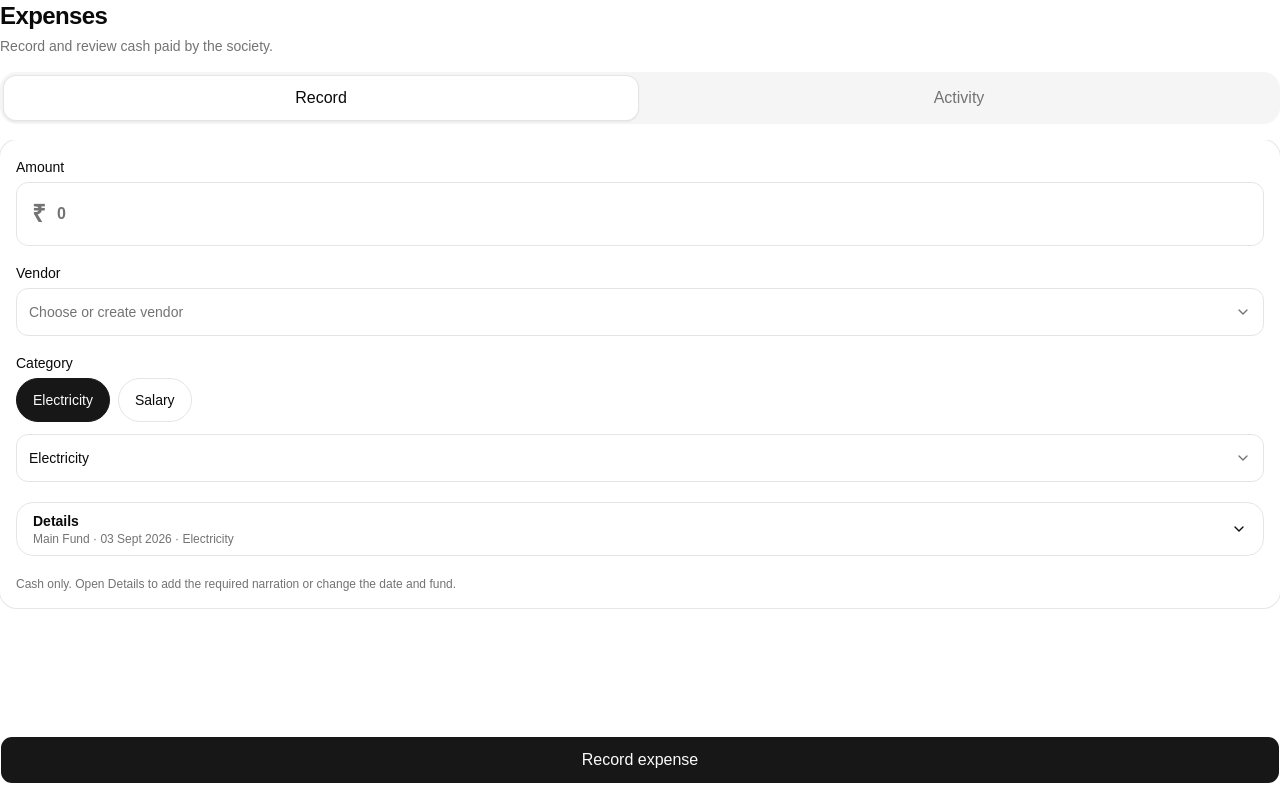
Test: ExpensesPage Slice 3 › filters Activity from the native filter sheet
Click the tab "activity": click(959, 98) [642,76,1276,120]
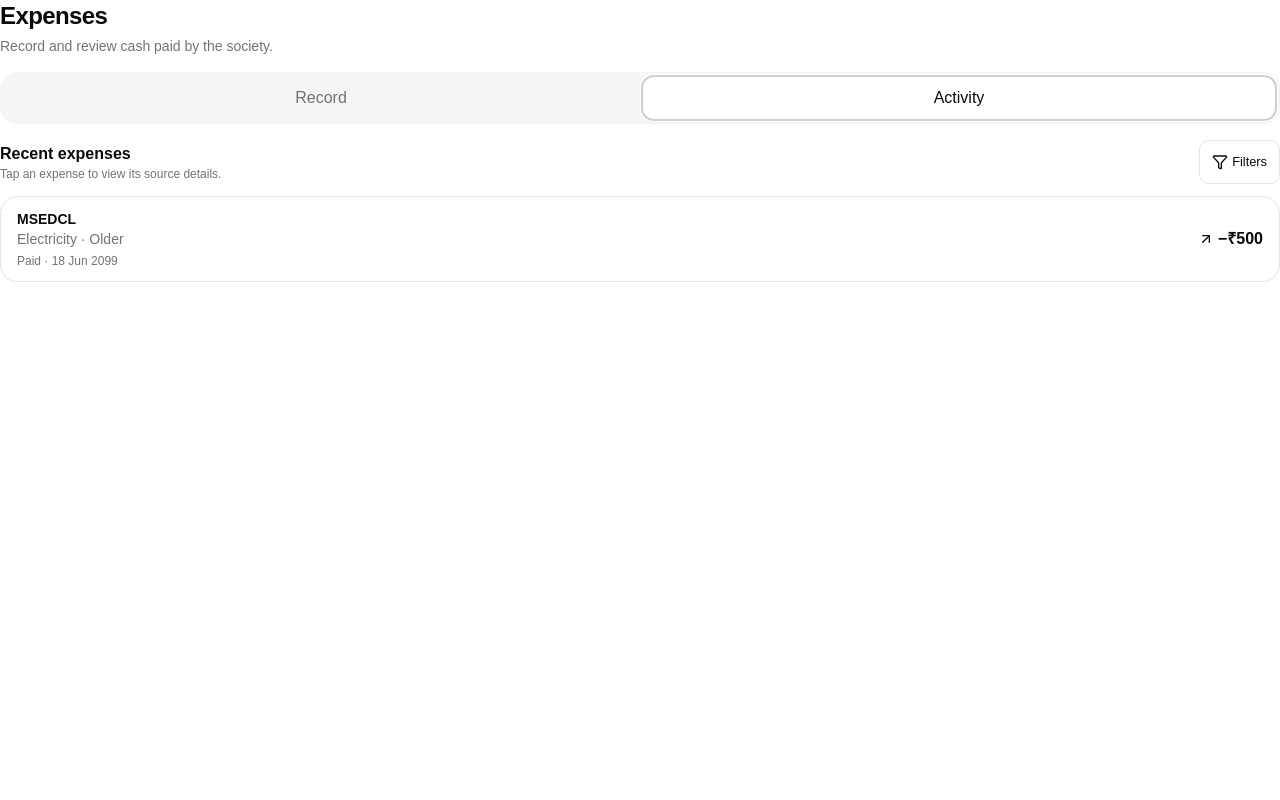
Expected: the text "Electricity · Older" is shown, [17,231,124,247]
Click the button "Filters": click(1240, 162) [1199,140,1279,184]
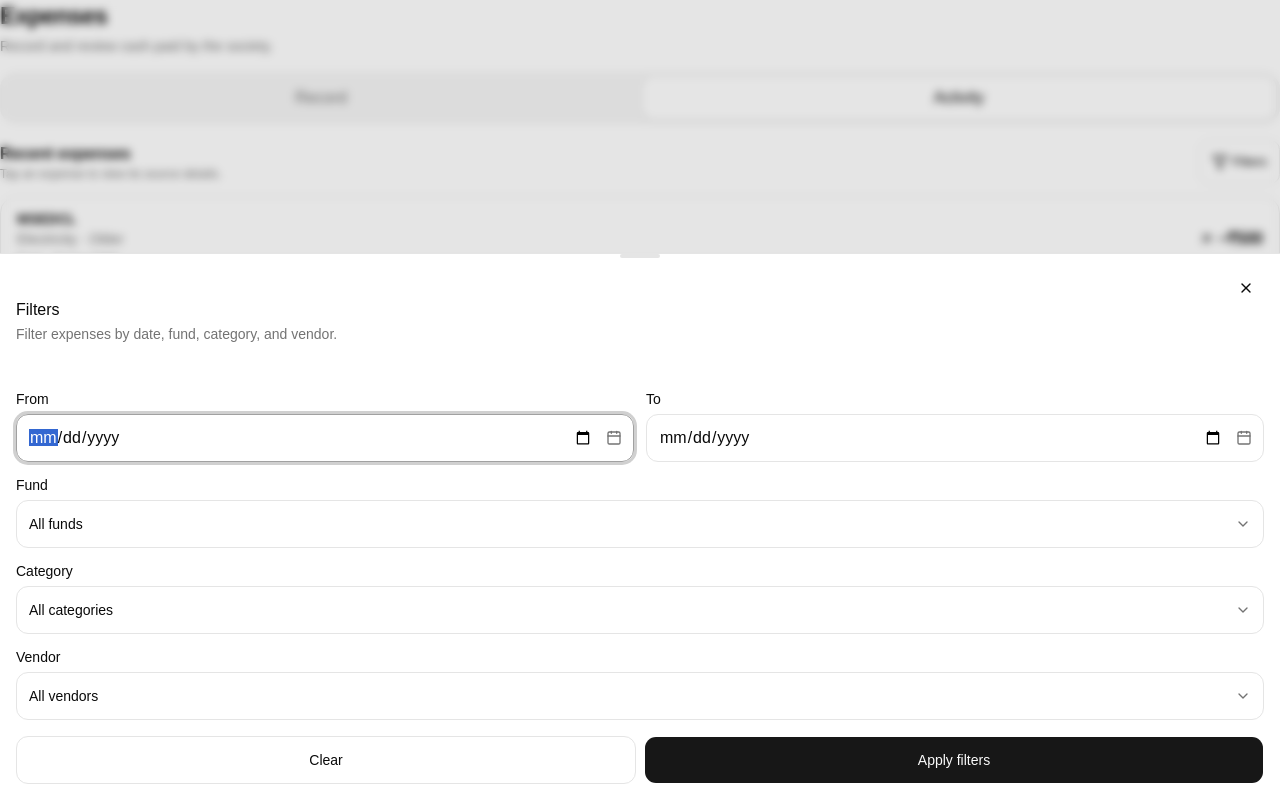
In the date field labelled "From": (325, 438) [16,414,634,462], type "2099-06-19"
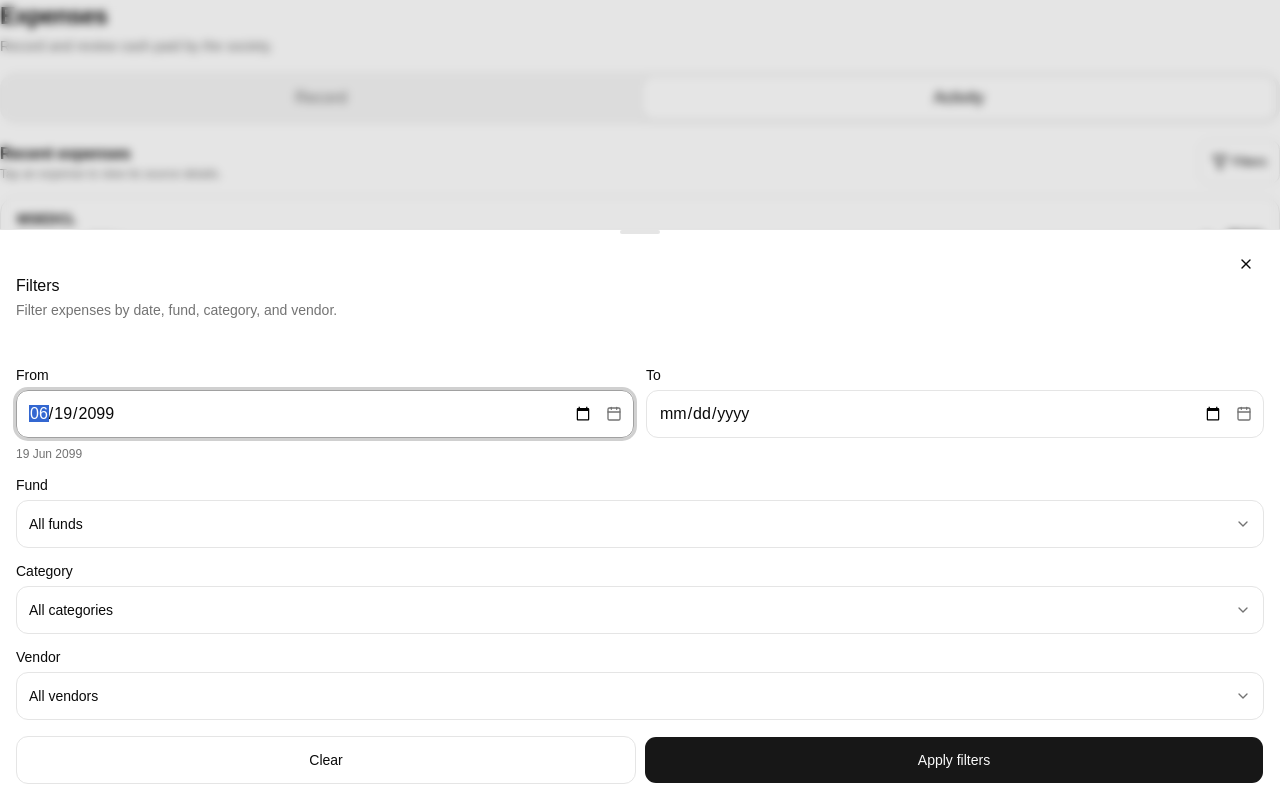
Click the button "Apply filters": click(954, 760) [644,736,1264,784]
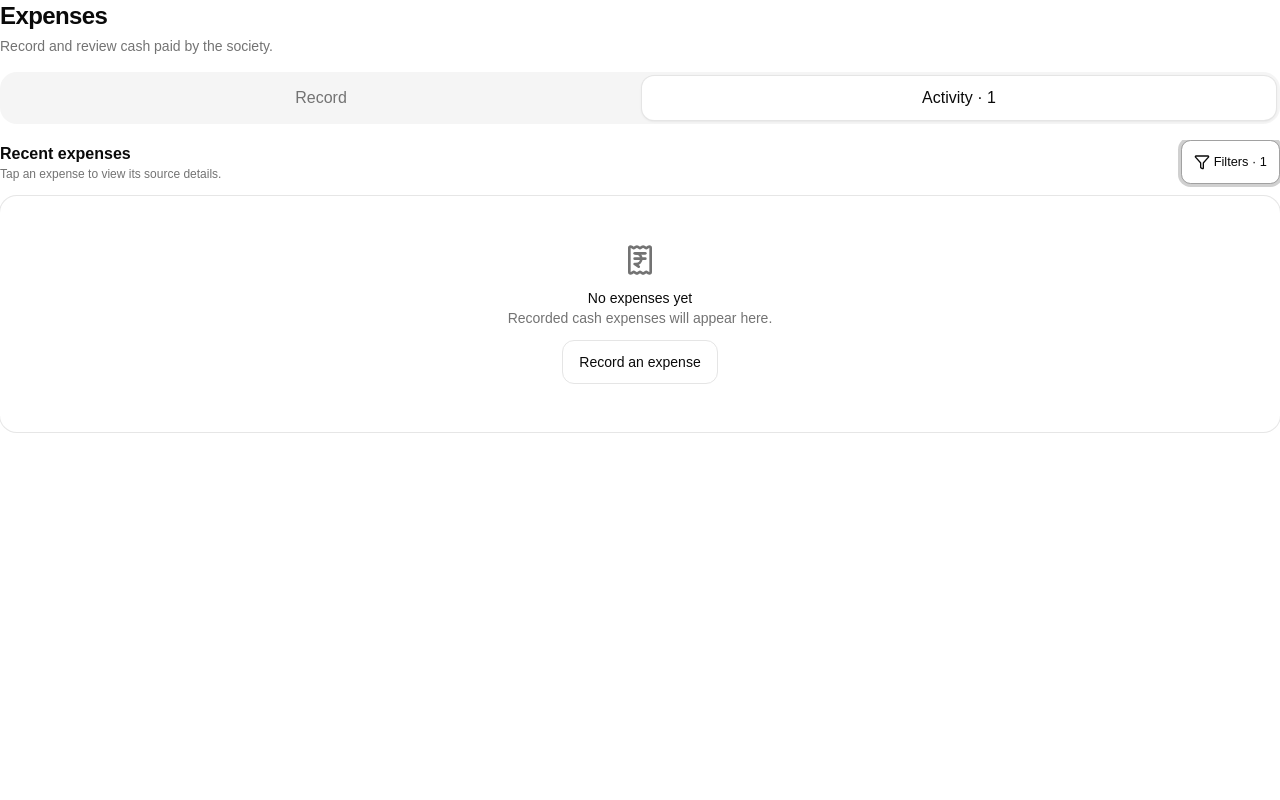
Expected: the text "No expenses yet" is shown, [588,290,692,306]
Expected: the button "Older" is gone
